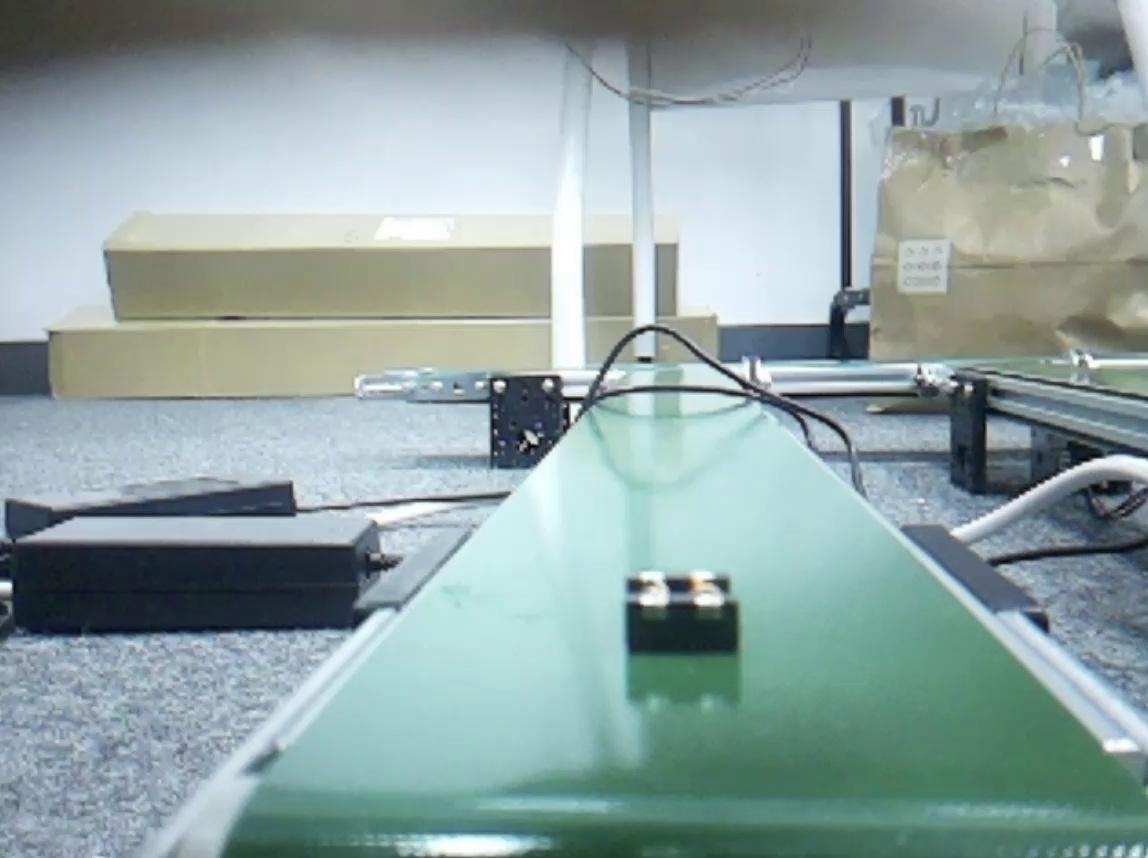inductor: (633, 568, 737, 652)
